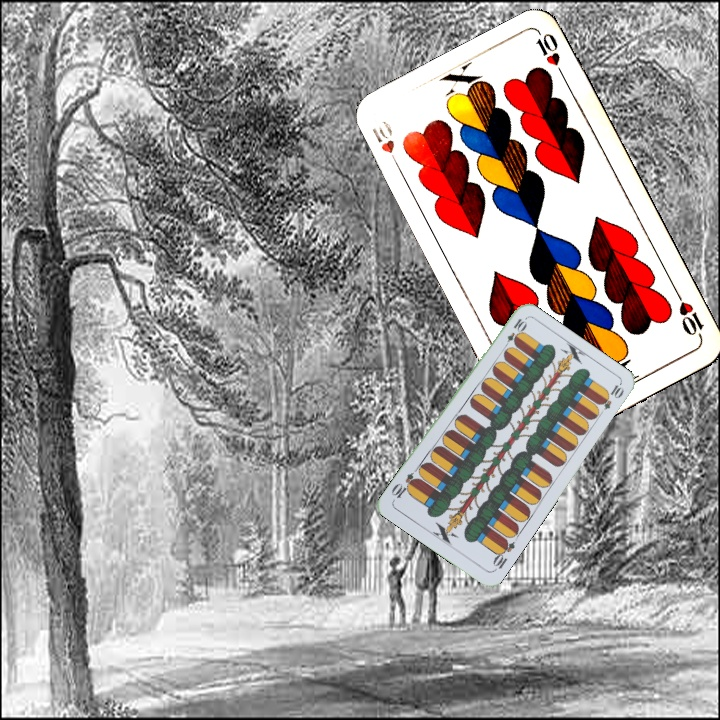E10: (488, 535, 517, 574), (500, 314, 528, 352)
H10: (671, 287, 707, 342), (368, 116, 403, 172)
